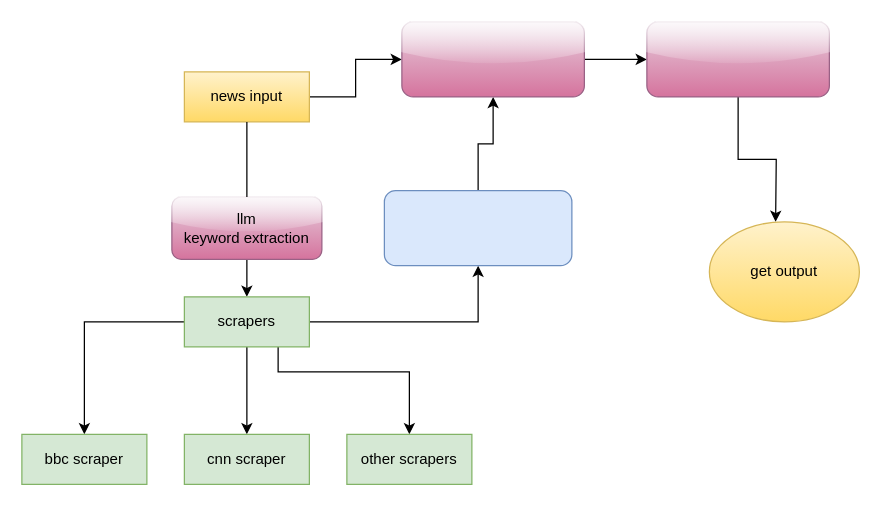
Some shapes in this 881 by 506 pixel diagram are drawn without their labels. Here are the shapes that lost their labels. From the top down, the centre of each, then its label:
At point (492, 59): "llm generate formated corpus".
At point (737, 59): "llm comparison".
At point (477, 227): "retrieval model".
